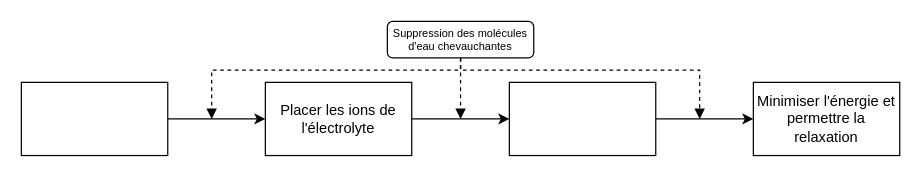
The diagram is 921 pixels wide and 177 high, and some of its shapes have lost their labels. The centre of each missing label's shape, as x and y in pixels:
Insérer les électrodes de graphite: the point at 582,118
Remplir entièrement la boîte de molécules d'eau: the point at 94,118
